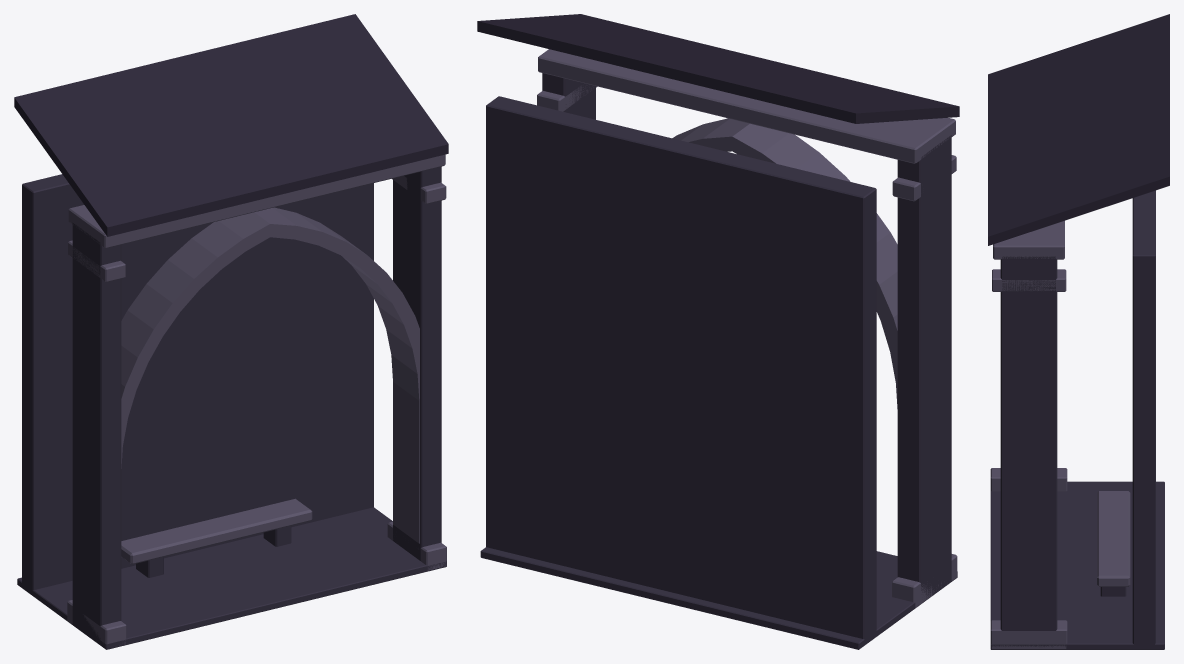
The model's file is covered-cloister-bay.glb.
3 renders of one model, left to right at view 1: azimuth 30°, elevation 25°; view 2: azimuth 150°, elevation 25°; view 3: azimuth 270°, elevation 25°, orthographic. The views are drawn at different scales.
Visible parts, largest first — view 1: covered-cloister-bay; view 2: covered-cloister-bay; view 3: covered-cloister-bay.
Part boxes in pixels (<box>): covered-cloister-bay: <box>14,14,448,649</box>; covered-cloister-bay: <box>477,14,959,649</box>; covered-cloister-bay: <box>988,14,1169,649</box>.
Size of the model in its own units: 7.5 by 10.2 by 3.55.
